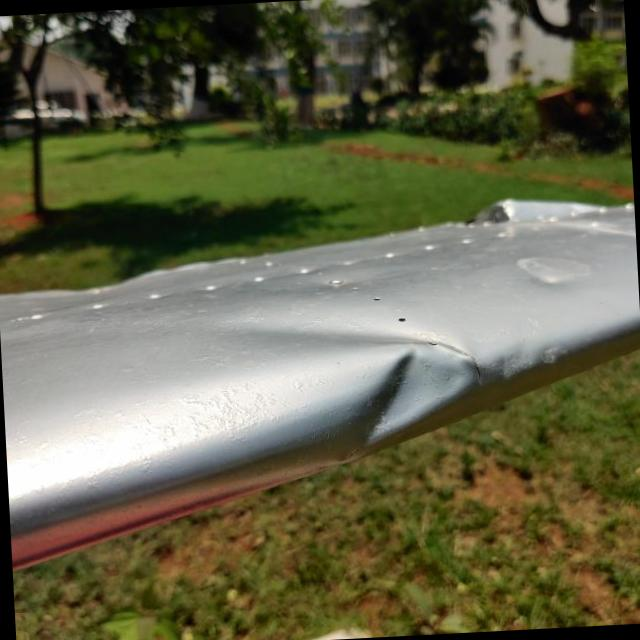Crack: (470, 358, 483, 387)
Dent: (337, 343, 480, 463)
